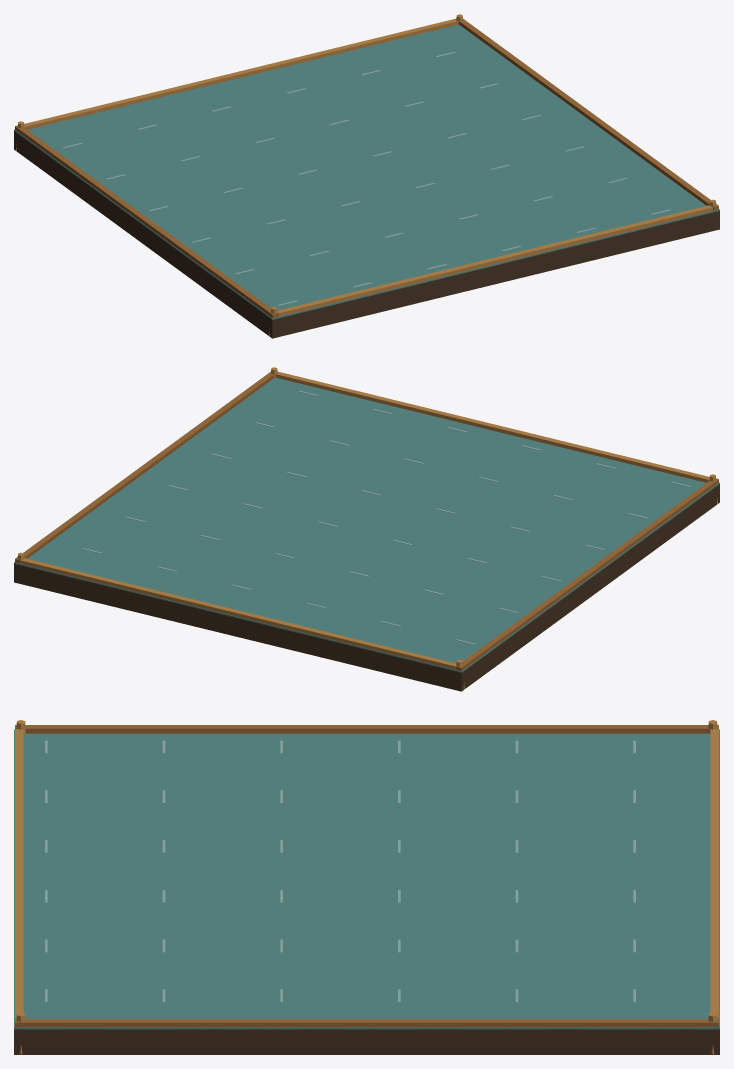
Rendered from farm-large-bed-water.gltf.
The picture shows the model from 3 angles, top to bottom: view 1: azimuth 30°, elevation 25°; view 2: azimuth 150°, elevation 25°; view 3: azimuth 270°, elevation 25°; orthographic projection. The views are drawn at different scales.
Parts seen in each view (by area): view 1: farm-large-bed-water; view 2: farm-large-bed-water; view 3: farm-large-bed-water.
Boxes of the visible parts, x1,y1,x2,y2 form: farm-large-bed-water: (14, 14, 719, 338); farm-large-bed-water: (14, 367, 719, 691); farm-large-bed-water: (14, 720, 719, 1054).
Size of the model in its own units: 4.01 by 0.235 by 4.
